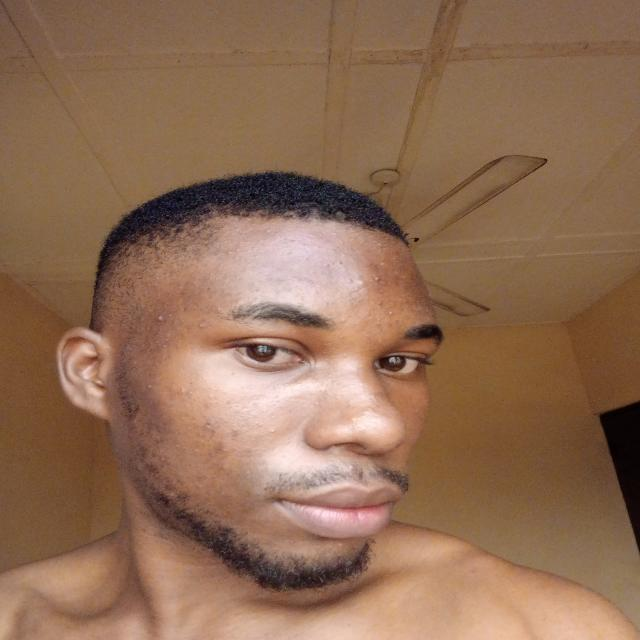Acne: (264, 278, 294, 293), (177, 387, 212, 399), (348, 408, 376, 423), (376, 298, 394, 317), (200, 419, 220, 434), (206, 446, 227, 460), (341, 276, 365, 287), (227, 425, 247, 437), (365, 392, 378, 404), (152, 313, 166, 323), (264, 427, 280, 435), (339, 315, 352, 324), (253, 228, 279, 232), (339, 352, 349, 361), (233, 297, 243, 306), (157, 454, 168, 462), (285, 250, 295, 258), (371, 275, 382, 282), (372, 321, 384, 327), (225, 249, 237, 255), (321, 261, 331, 268), (213, 304, 223, 311), (337, 258, 344, 267), (196, 323, 206, 329), (288, 238, 299, 243)
